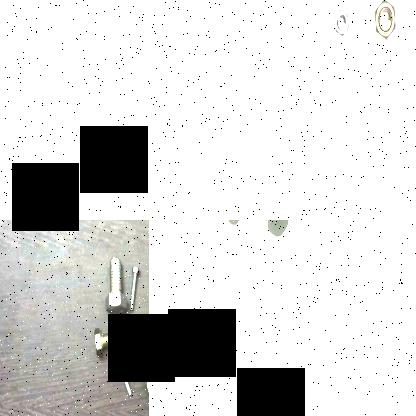Bolts: (102, 255, 127, 317), (91, 321, 123, 358), (112, 356, 134, 396), (126, 322, 144, 368), (127, 264, 140, 310), (141, 317, 149, 343)
NUTS: (369, 0, 396, 44), (327, 1, 350, 43)
